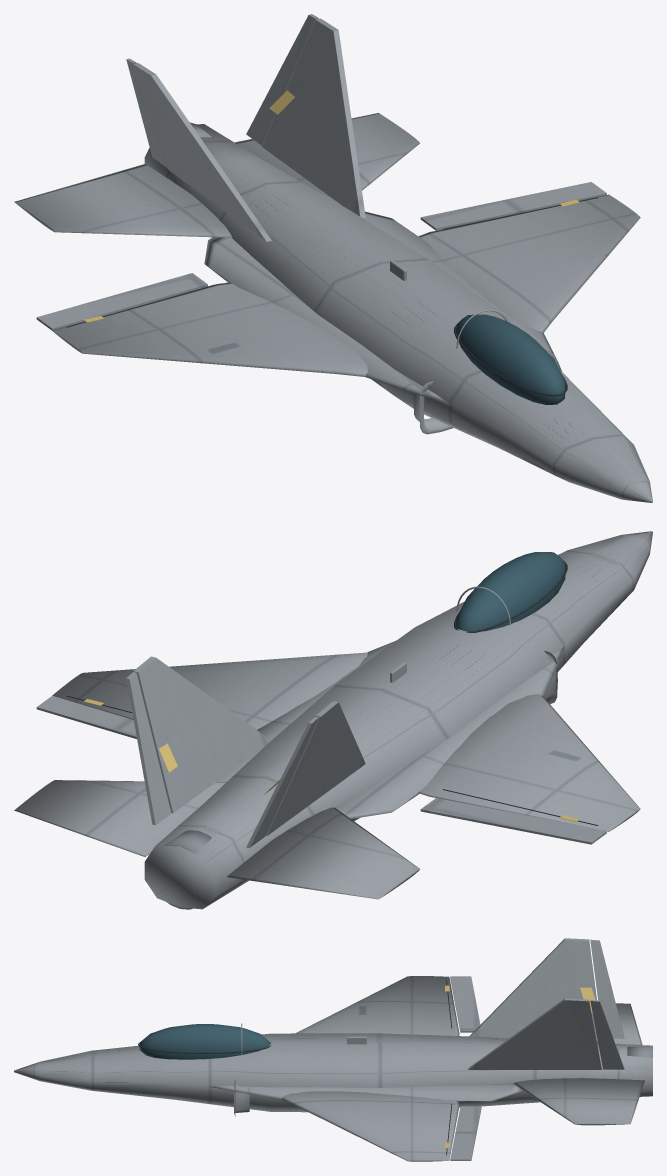
3 renders of one model, top to bottom at view 1: azimuth 30°, elevation 25°; view 2: azimuth 150°, elevation 25°; view 3: azimuth 270°, elevation 25°, orthographic. The views are drawn at different scales.
Visible parts, largest first — view 1: airframe_static, tailplane_L, canopy, tailplane_R, flaperon_R, flaperon_L, rudder_2, rudder_1; view 2: airframe_static, tailplane_L, tailplane_R, canopy, flaperon_L, rudder_2, flaperon_R, rudder_1; view 3: airframe_static, tailplane_R, canopy, rudder_1, flaperon_L, flaperon_R, rudder_2, tailplane_L.
Boxes of the visible parts, x1,y1,x2,y2 form: airframe_static: (52,18,652,502); tailplane_L: (14,164,232,237); canopy: (456,314,565,405); tailplane_R: (234,113,419,204); flaperon_R: (420,182,606,230); flaperon_L: (36,273,207,330); rudder_2: (246,14,318,145); rudder_1: (126,58,167,168); airframe_static: (52,531,652,909); tailplane_L: (227,807,419,899); tailplane_R: (14,780,225,856); canopy: (456,552,565,631); flaperon_L: (420,798,606,844); rudder_2: (126,672,171,825); flaperon_R: (36,695,136,738); rudder_1: (246,716,318,848); airframe_static: (14,938,652,1161); tailplane_R: (512,1078,644,1125); canopy: (139,1024,270,1059); rudder_1: (590,939,624,1038); flaperon_L: (450,976,480,1032); flaperon_R: (450,1106,481,1160); rudder_2: (590,1000,624,1069); tailplane_L: (596,1003,642,1044).
Size of the model in its own units: 10.7 by 3.58 by 15.7.
Materials: 5 (1 with a texture image).
